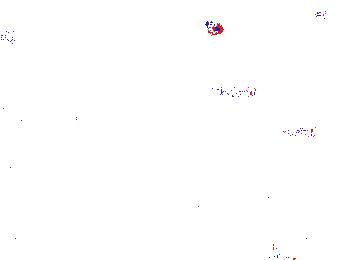X-ray fish: (301, 215, 342, 237), (177, 125, 208, 151)
red belly glassfish: (214, 83, 263, 101), (282, 122, 317, 140), (205, 18, 224, 36)
redtail glassfish: (313, 5, 346, 28)
